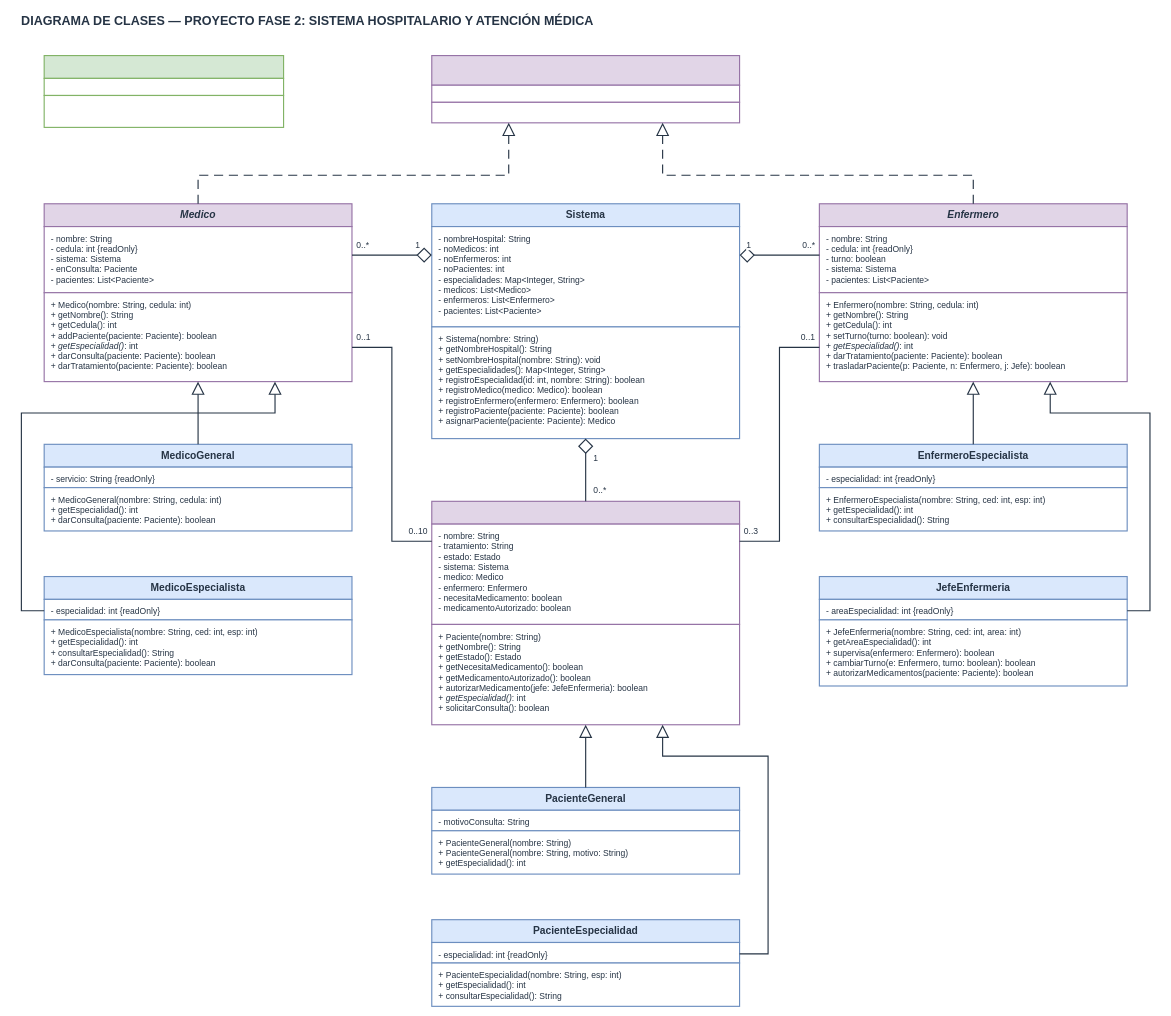
Some shapes in this 1171 by 1016 pixel diagram are drawn without their labels. Each missing label, with the centre of its shape:
+ darTratamiento(paciente: Paciente) : boolean: the point at 585,112
+ Main() + main(args: String[]) : void: the point at 163,111
Main: the point at 163,67
Paciente: the point at 585,512
«interface» AtencionMedica: the point at 585,70
